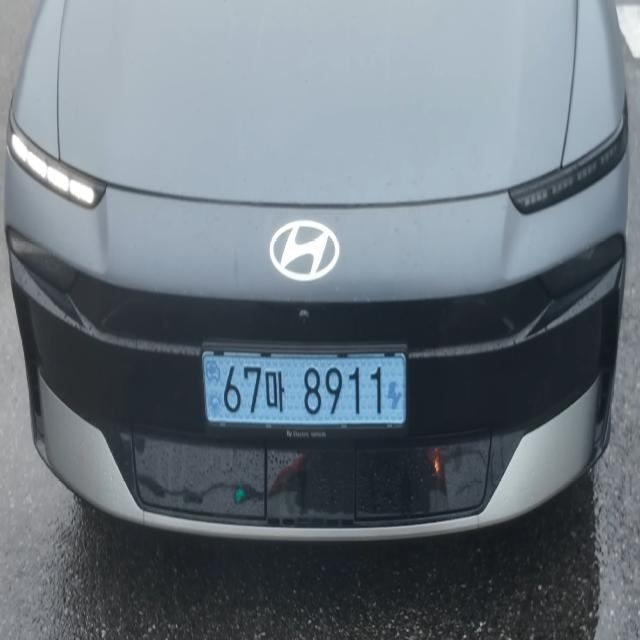car: (186, 323, 426, 461)
carev: (382, 353, 410, 436), (199, 348, 225, 433)
